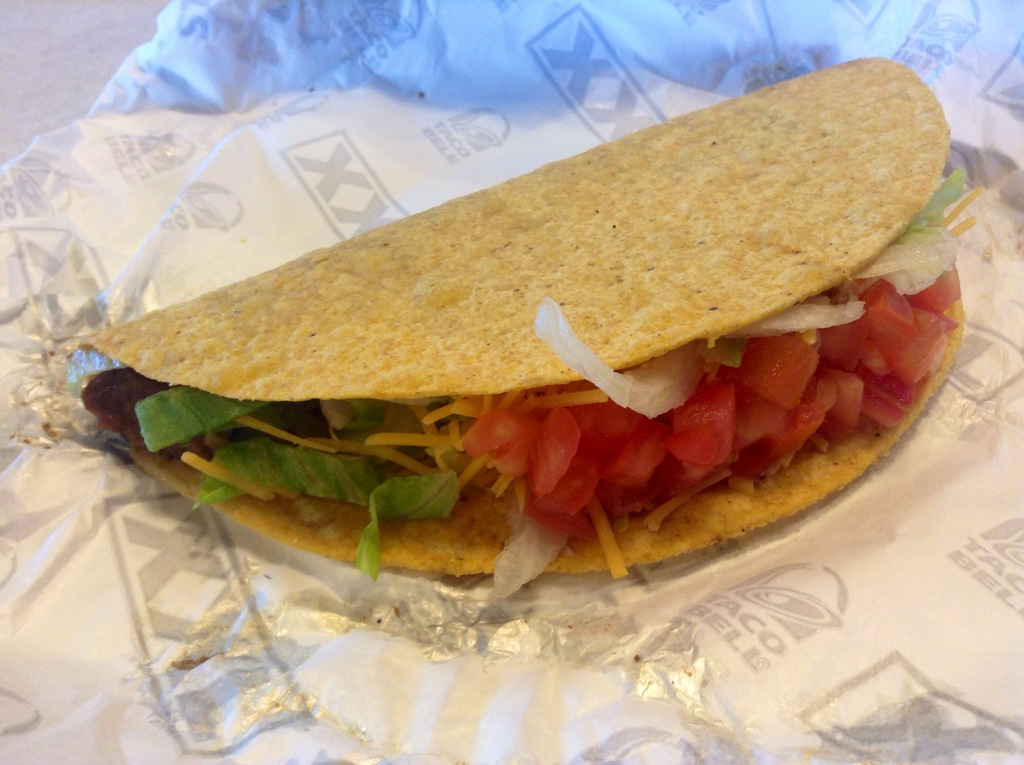taco: (68, 45, 945, 626)
